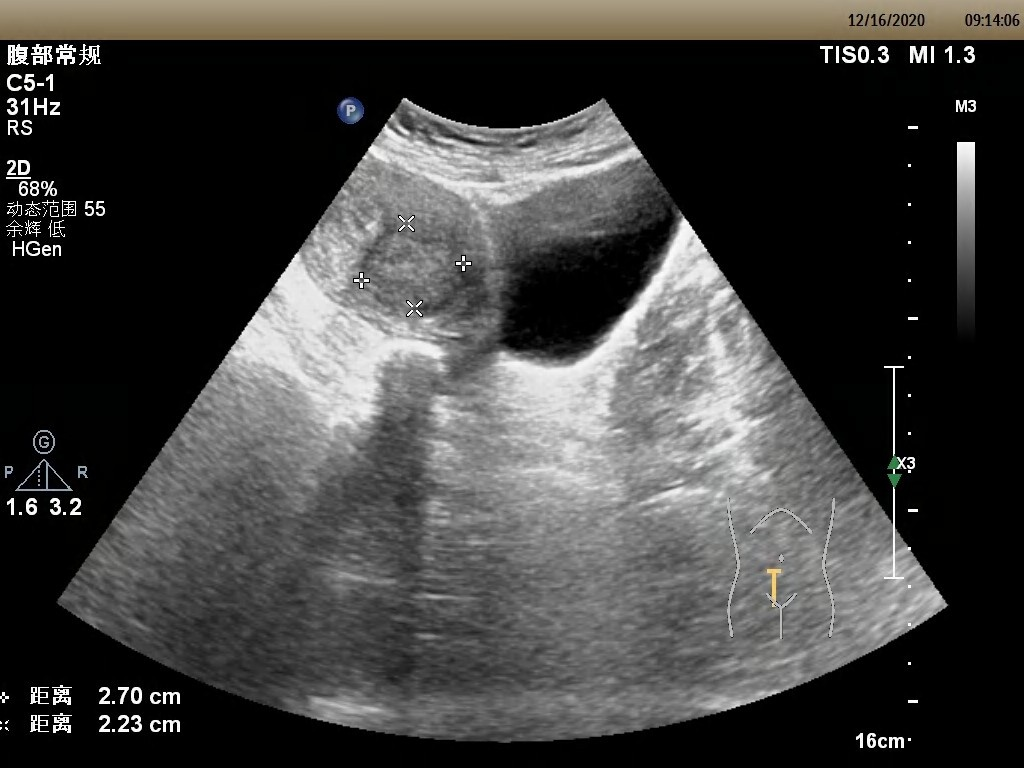肌瘤: (373, 232, 455, 302)
